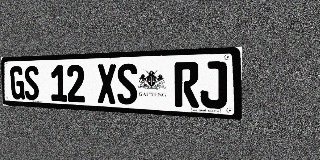1: (50, 65, 67, 102)
2: (67, 65, 85, 103)
G: (10, 66, 25, 100)
J: (200, 61, 227, 109)
R: (174, 62, 199, 108)
S: (117, 63, 138, 105), (24, 66, 39, 100)
X: (97, 64, 117, 104)
